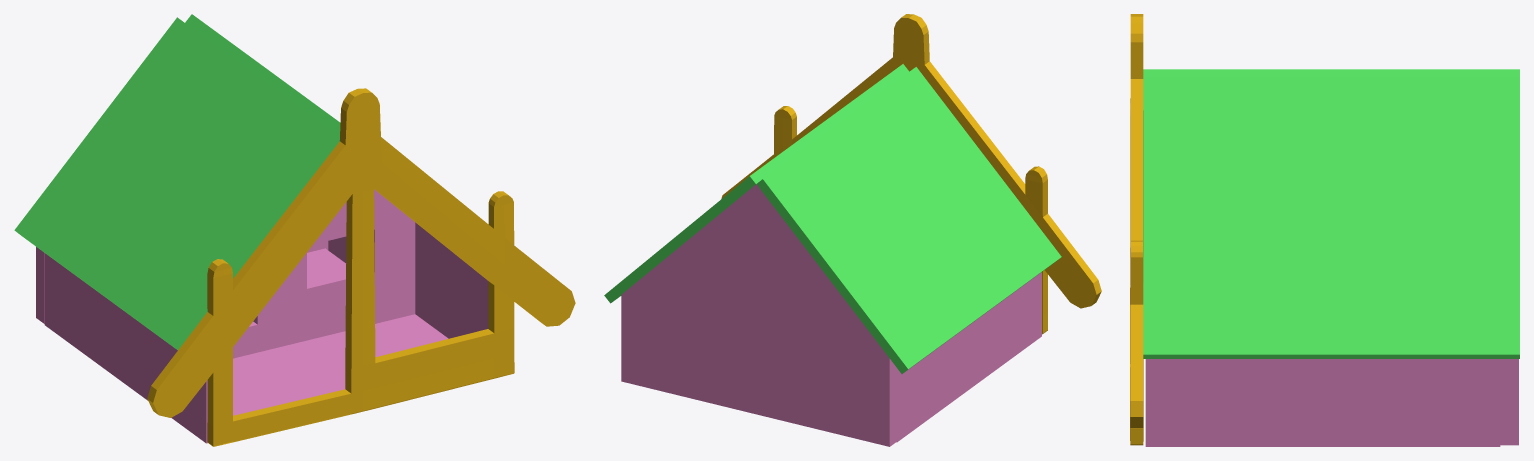
The model's file is house 1.fbx.
The picture shows the model from 3 angles, left to right: view 1: azimuth 30°, elevation 25°; view 2: azimuth 150°, elevation 25°; view 3: azimuth 270°, elevation 25°; orthographic projection. The views are drawn at different scales.
Parts seen in each view (by area): view 1: Cube.019; view 2: Cube.019; view 3: Cube.019.
Part boxes in pixels (x1=…): Cube.019: x1=14, y1=14, x2=575, y2=446; Cube.019: x1=604, y1=14, x2=1101, y2=446; Cube.019: x1=1130, y1=14, x2=1519, y2=446.
Bounding box in the file's own units: 1315 × 948 × 958.
